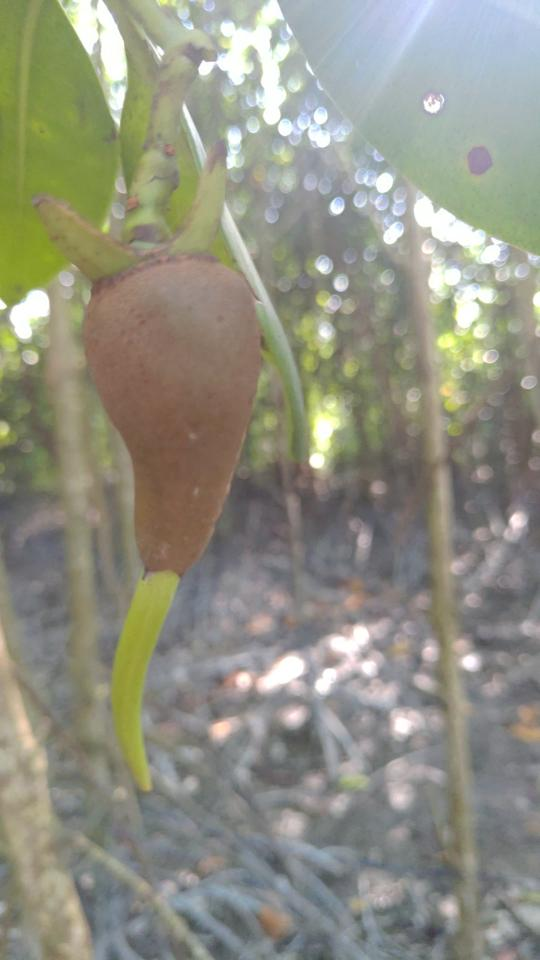mentah: (34, 149, 286, 821)
